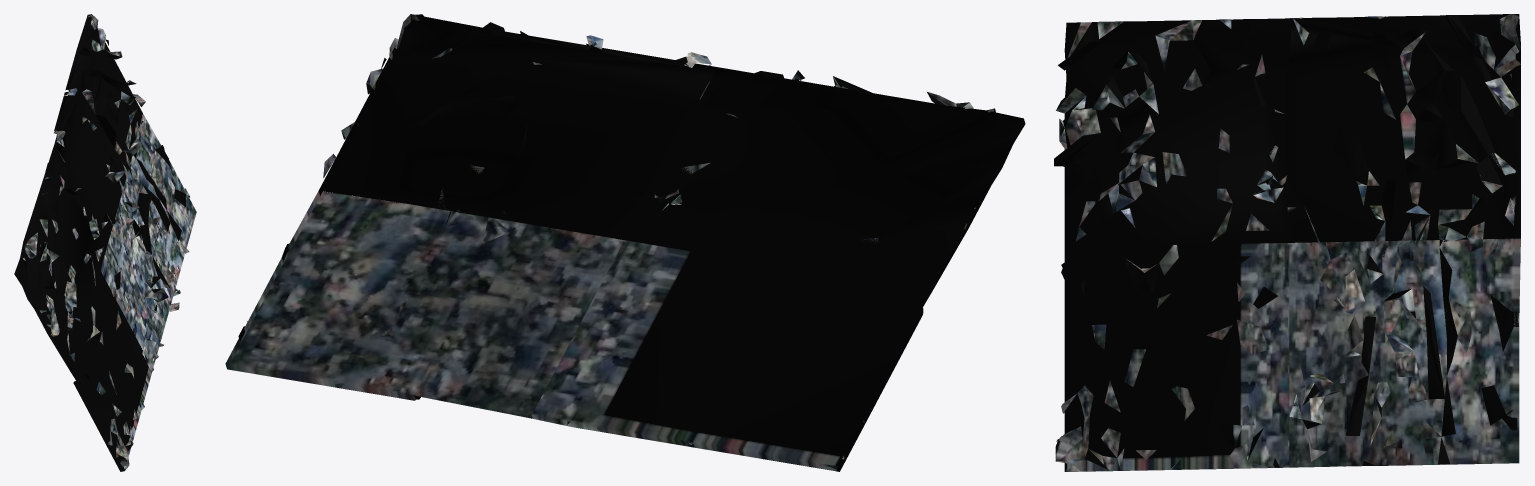
3 views of the same model, side by side, from view 1: azimuth 30°, elevation 25°; view 2: azimuth 150°, elevation 25°; view 3: azimuth 270°, elevation 25° (orthographic). The views are drawn at different scales.
Visible parts, largest first — view 1: node_304362727043614_mesh0; view 2: node_304362727043614_mesh0; view 3: node_304362727043614_mesh0.
Boxes of the visible parts, <box> form: node_304362727043614_mesh0: <box>14,14,196,471</box>; node_304362727043614_mesh0: <box>225,14,1025,471</box>; node_304362727043614_mesh0: <box>1054,14,1520,471</box>.
Size of the model in its own units: 1165 by 1165 by 907.
Materials: 1 (1 with a texture image).
